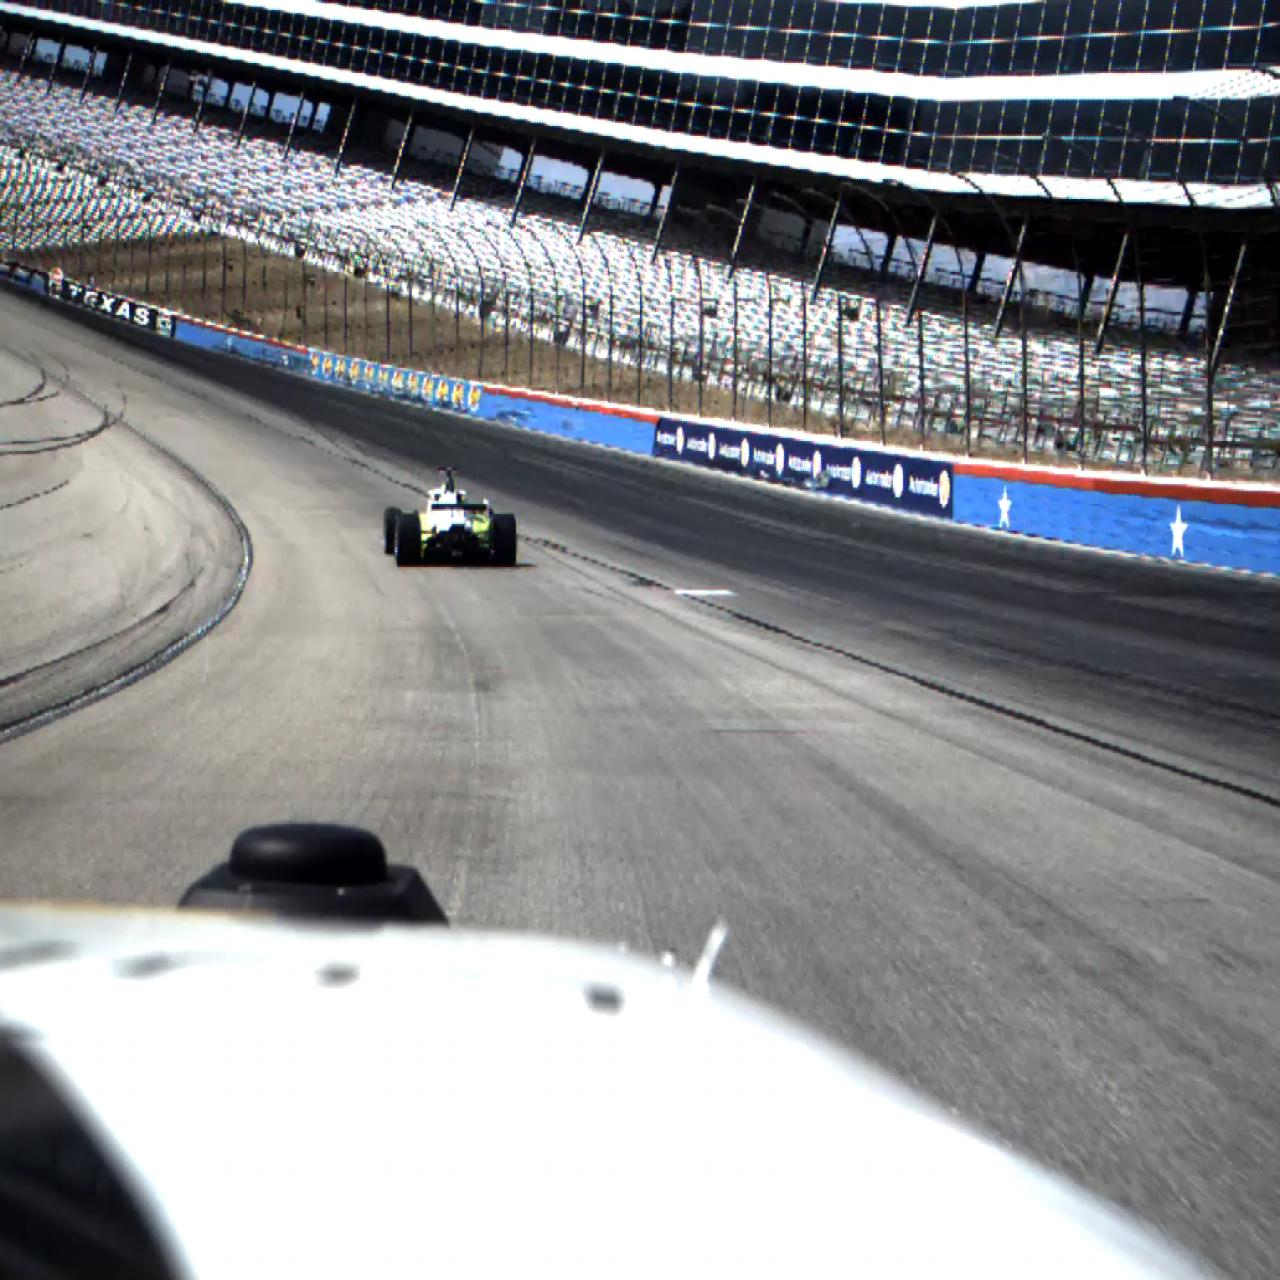AV: (384, 465, 517, 569)
Wheel: (396, 513, 421, 568), (493, 514, 516, 568), (384, 507, 402, 556)
